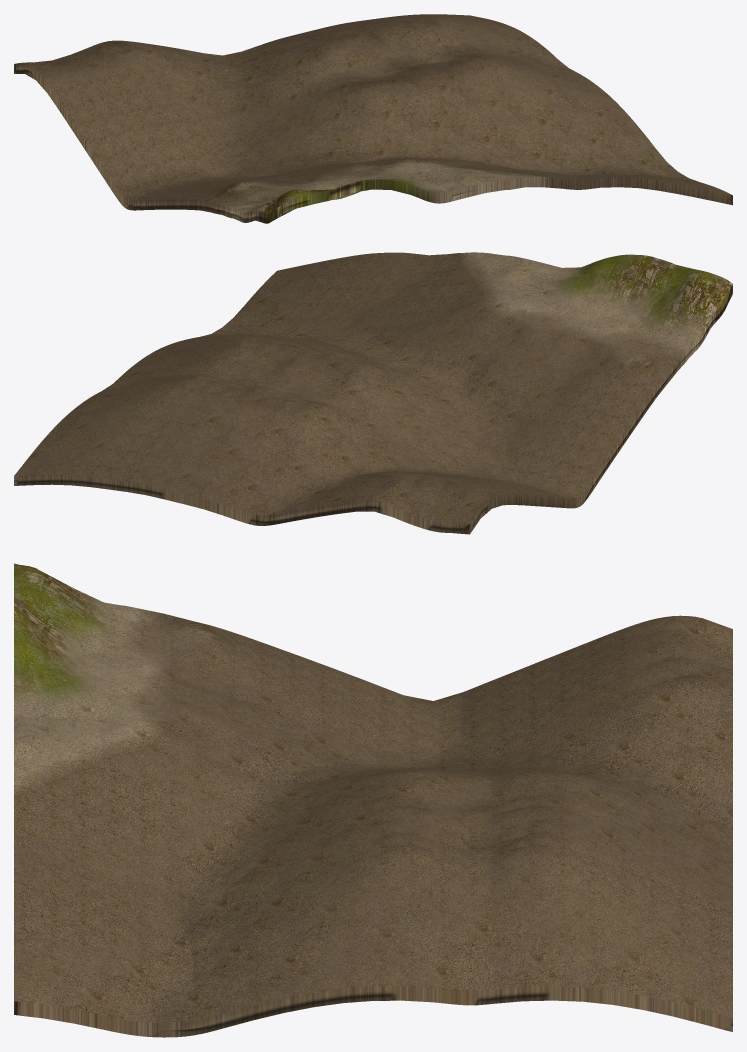
File: chunk_4_1.glb
The picture shows the model from 3 angles, top to bottom: view 1: azimuth 30°, elevation 25°; view 2: azimuth 150°, elevation 25°; view 3: azimuth 270°, elevation 25°; orthographic projection. The views are drawn at different scales.
Parts seen in each view (by area): view 1: Terrain_L0, Terrain_L2, Terrain_L1; view 2: Terrain_L0, Terrain_L2, Terrain_L1; view 3: Terrain_L0, Terrain_L2, Terrain_L1.
Boxes of the visible parts, bbox=[...] form: Terrain_L0: bbox=[14, 14, 732, 223]; Terrain_L2: bbox=[23, 14, 731, 223]; Terrain_L1: bbox=[14, 14, 732, 223]; Terrain_L0: bbox=[14, 252, 732, 533]; Terrain_L2: bbox=[14, 253, 732, 534]; Terrain_L1: bbox=[14, 252, 732, 534]; Terrain_L0: bbox=[14, 563, 732, 1037]; Terrain_L2: bbox=[14, 573, 732, 1037]; Terrain_L1: bbox=[14, 574, 732, 1037].
Bounding box in the file's own units: 96 × 26.57 × 96.
Materials: 1 (1 with a texture image).
